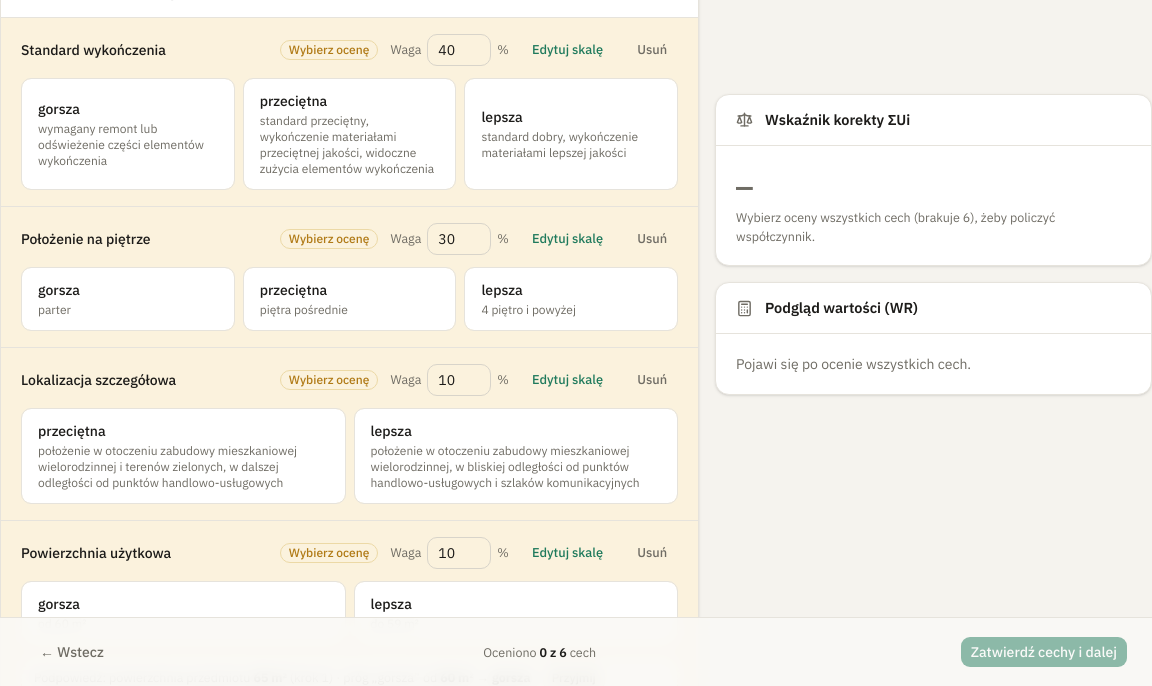
Scenario: StepFeatures — rating-scale definitions (Slice 7, migrated Task 10) › seeds an empty powierzchnia definition from the comparableAreas median, once at mount
This screenshot has width=1152, height=686.
Step 1. Click the button "Edytuj skalę" in the row of "Powierzchnia użytkowa" → (568, 553), box [521,539,614,567]
(page scrolled)
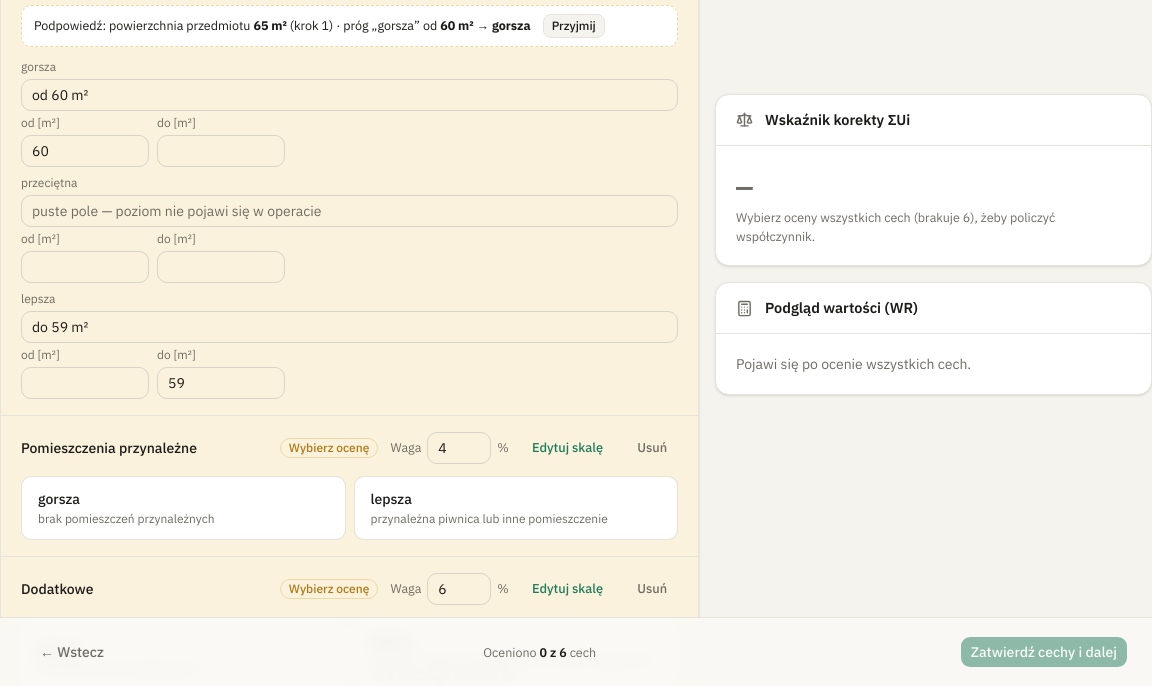
Result: the field with test id "feature-def-powierzchnia-uzytkowa-lepsza" holds "do 59 m²" at [21,311,678,343]
